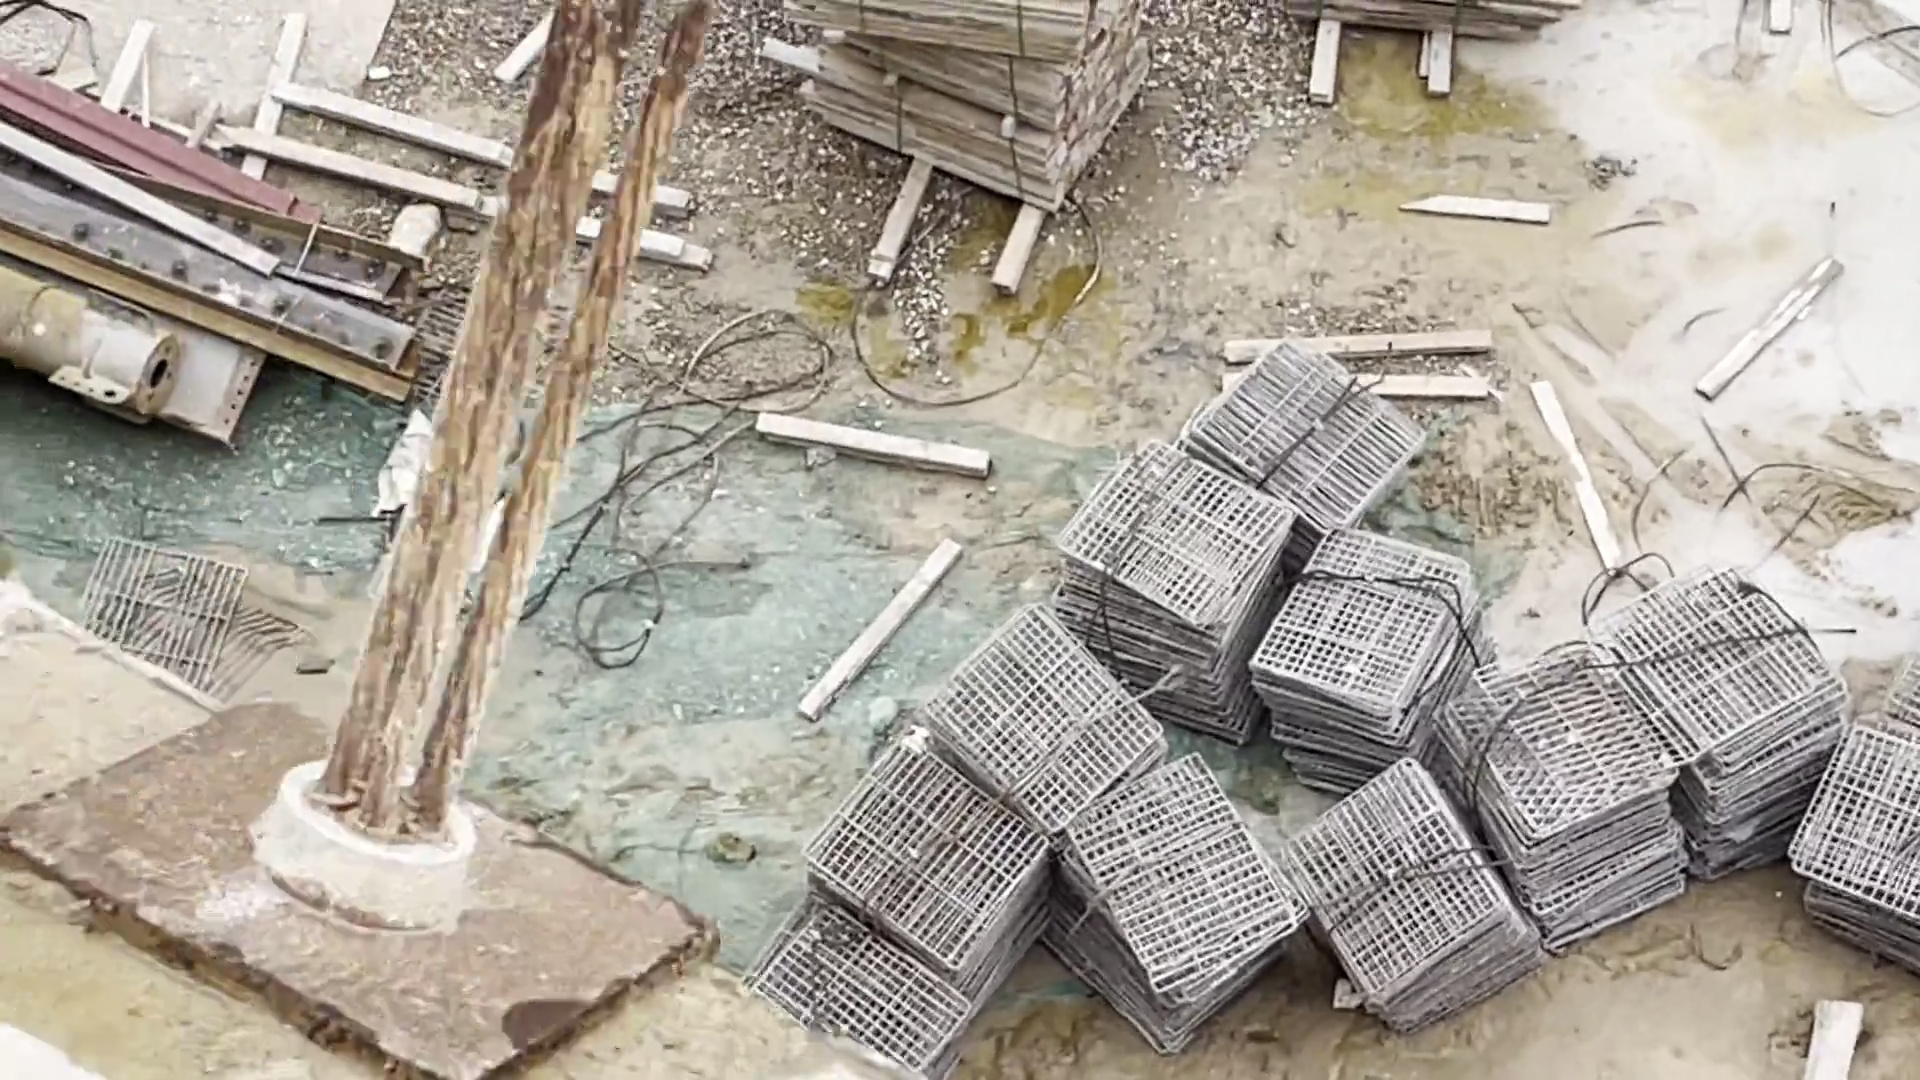wood: (778, 5, 1172, 222)
